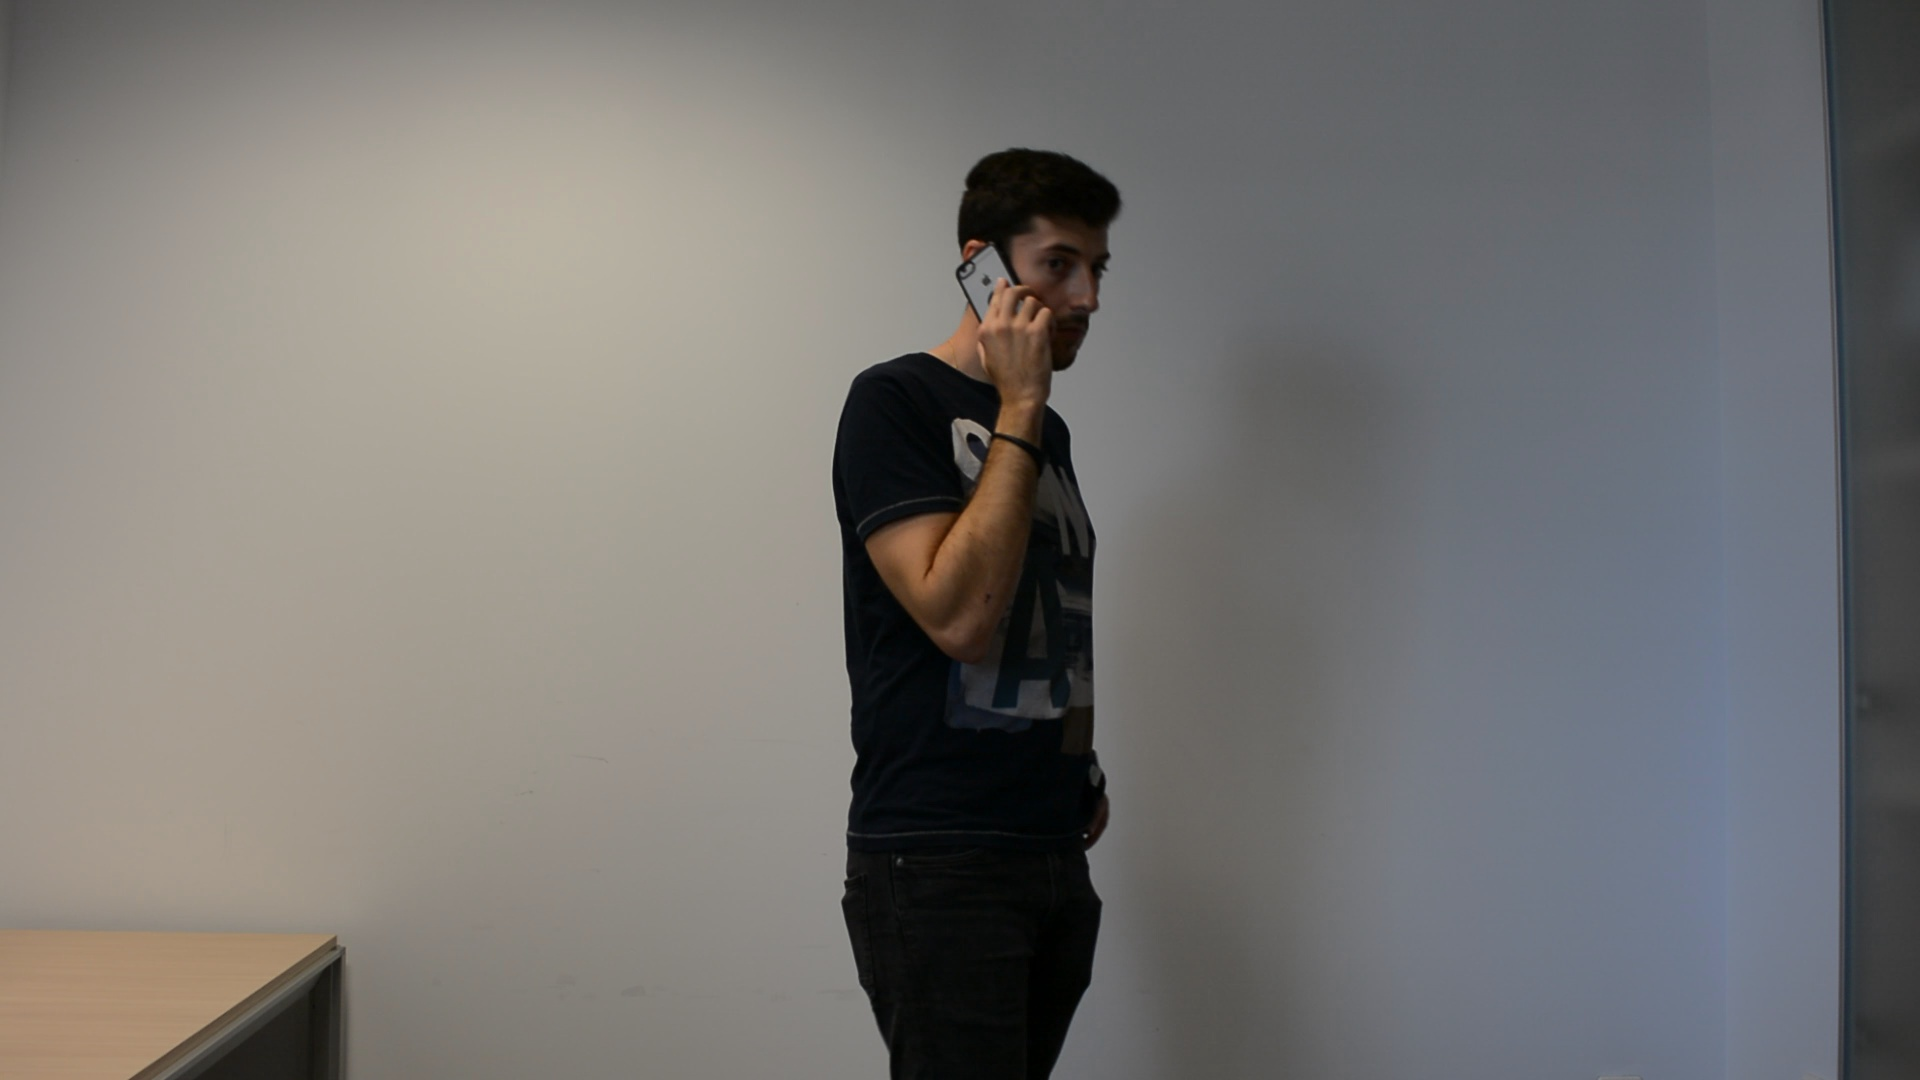smartphone: (953, 239, 1029, 326)
